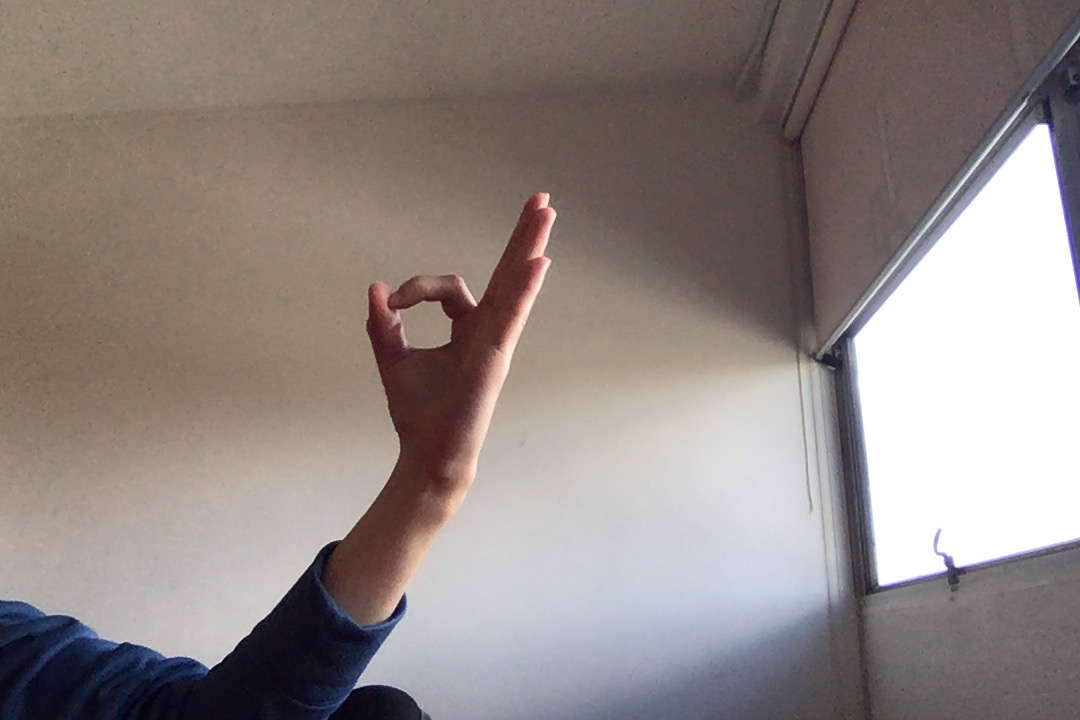oksign: (355, 185, 561, 491)
